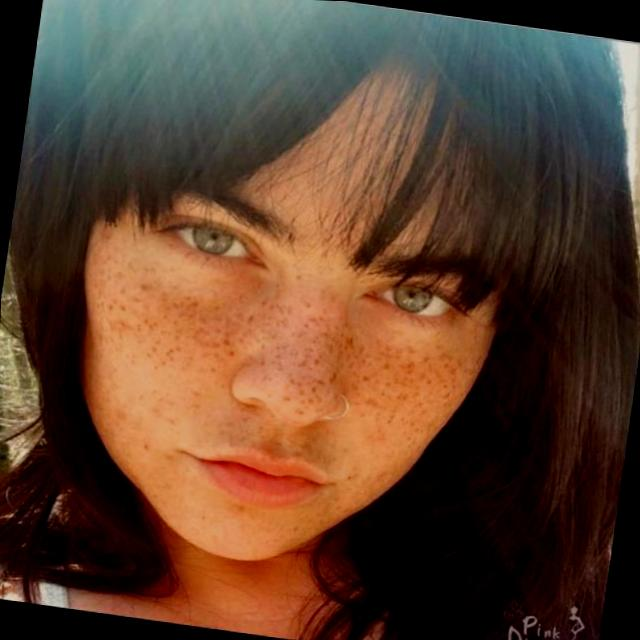freckle: (62, 253, 493, 438)
